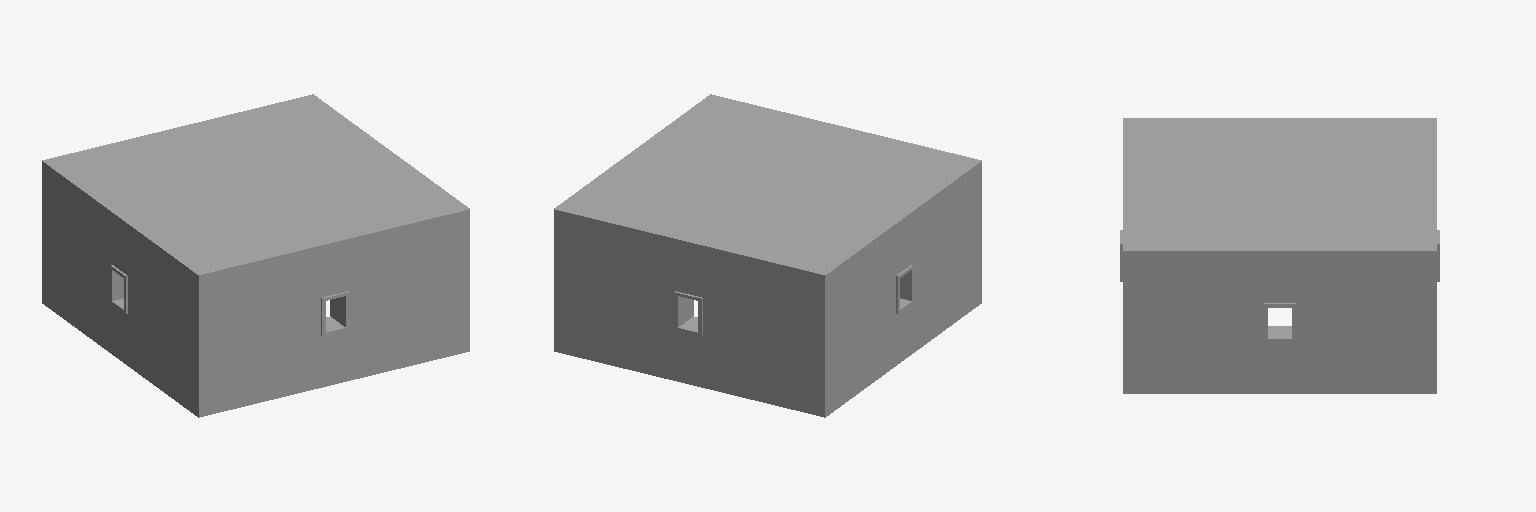
File: V7NCMVM2CESW8Q4IP1OHYDUES.obj
3 renders of one model, left to right at view 1: azimuth 30°, elevation 25°; view 2: azimuth 150°, elevation 25°; view 3: azimuth 270°, elevation 25°, orthographic.
Visible parts, largest first — view 1: Object_castlewall_A.jpg, Object_sidewalk.jpg, Object_windowframe.jpg; view 2: Object_castlewall_A.jpg, Object_sidewalk.jpg, Object_windowframe.jpg; view 3: Object_castlewall_A.jpg, Object_sidewalk.jpg, Object_windowframe.jpg.
Boxes of the visible parts, box(x1,y1,x2,y2) form: Object_castlewall_A.jpg: box(42, 161, 469, 417); Object_sidewalk.jpg: box(42, 94, 469, 274); Object_windowframe.jpg: box(110, 265, 348, 336); Object_castlewall_A.jpg: box(554, 161, 981, 417); Object_sidewalk.jpg: box(554, 94, 981, 274); Object_windowframe.jpg: box(675, 265, 913, 336); Object_castlewall_A.jpg: box(1123, 251, 1436, 393); Object_sidewalk.jpg: box(1123, 118, 1436, 250); Object_windowframe.jpg: box(1120, 230, 1439, 341).
Bounding box in the file's own units: 2.5 × 1.23 × 2.5.